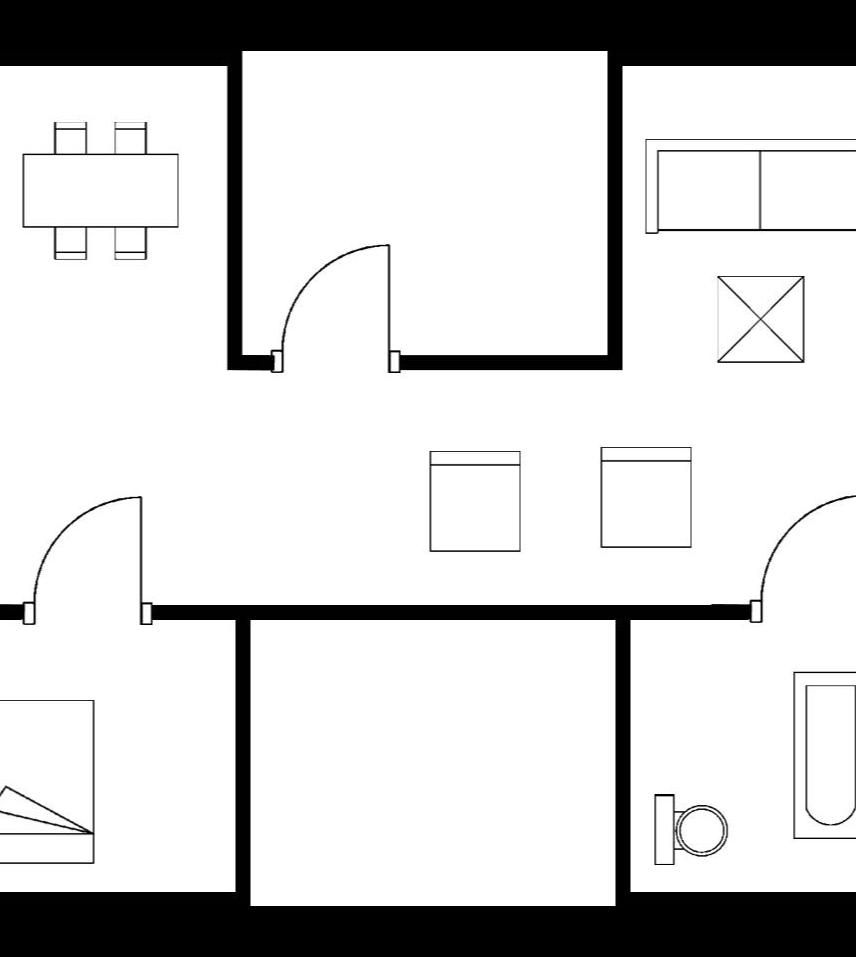bed: (0, 689, 103, 870)
dining_table: (11, 112, 184, 268)
sofa: (634, 127, 856, 238)
toilet: (641, 782, 730, 872)
tub: (784, 662, 856, 844)
